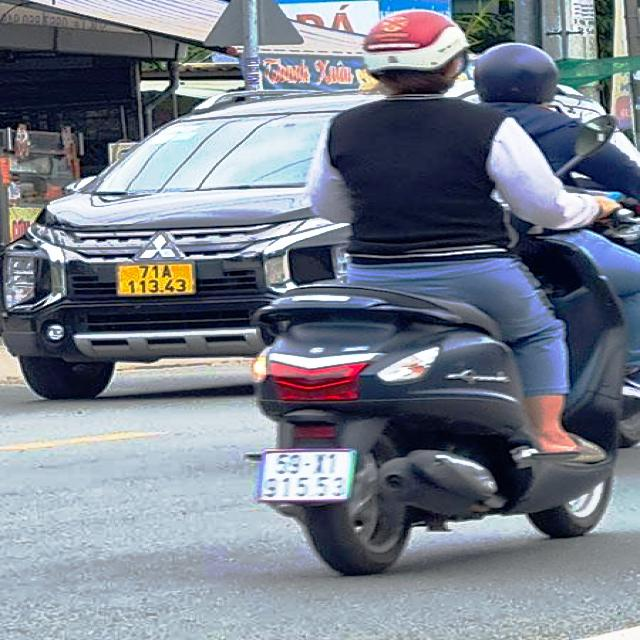license_plate: (258, 451, 359, 501), (119, 262, 195, 297)
